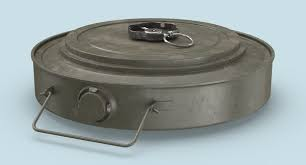car: (16, 0, 288, 162)
